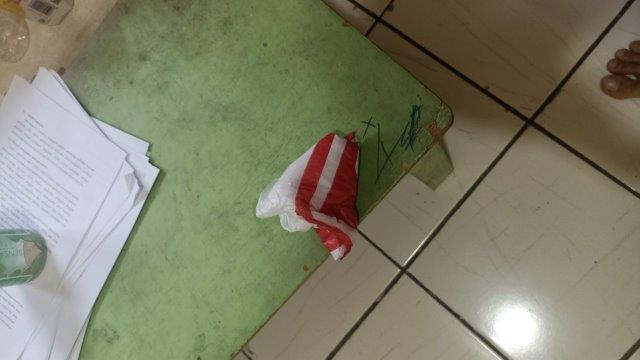kertas: (2, 67, 163, 360)
plastik: (252, 135, 366, 267)
